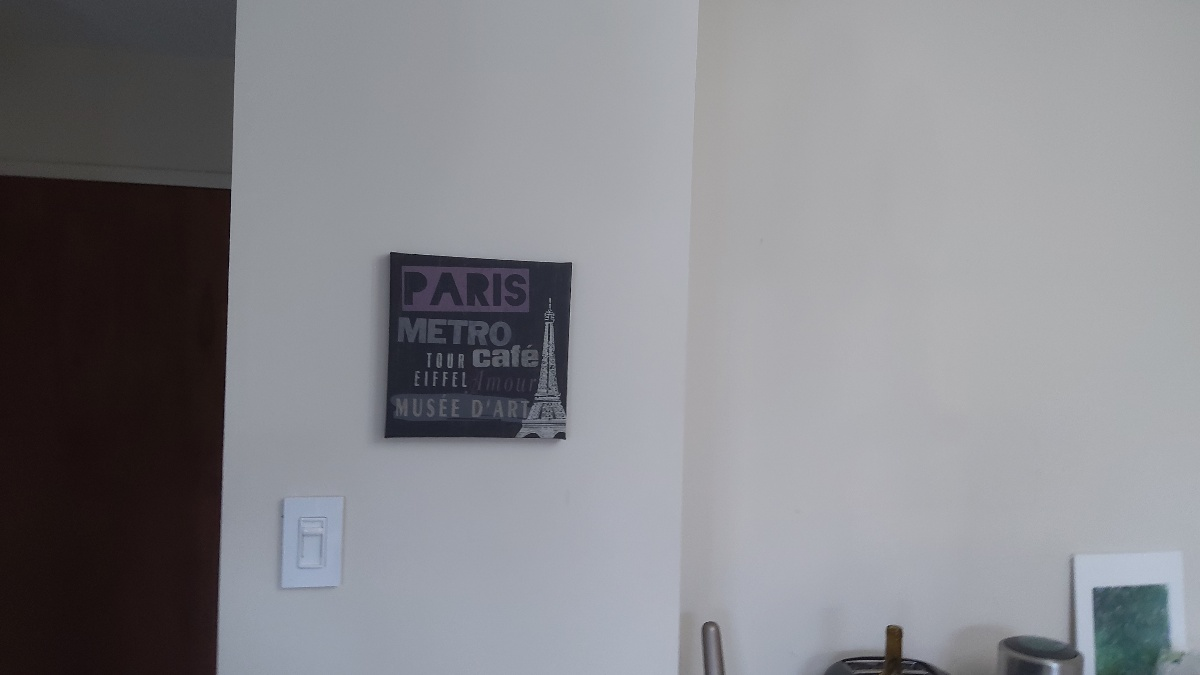poster: (384, 247, 579, 447)
